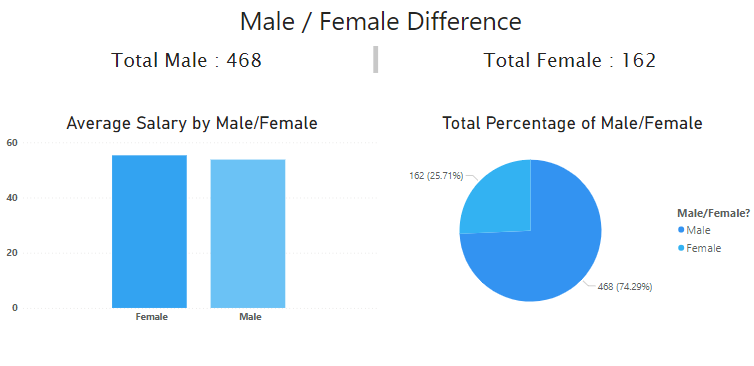

The page's visual inventory and layout, read from the dashboard file:
{"tool":"powerbi","page":{"name":"Male/Female","canvas":[1280,720],"ordinal":2},"visuals":[{"type":"pieChart","title":"Total Percentage of Male/Female","fields":{"Category":["Data Professional Survey.Q9 - Male/Female?"],"Y":["CountNonNull(Data Professional Survey.Unique ID)"]},"box":[640.8,208.6,639.2,362.1],"z":0},{"type":"columnChart","fields":{"Category":["Data Professional Survey.Q9 - Male/Female?"],"Y":["Avg(Data Professional Survey.Average Salary)"]},"box":[10,208.6,630.8,362.1],"z":1000},{"type":"textbox","box":[0,20,1280,73.4],"z":2000},{"type":"textbox","box":[0,93.5,640.8,56.7],"z":3000},{"type":"textbox","box":[640.8,93.5,639.2,56.7],"z":4000}]}

Visuals, with their boxes on the page's 1280x720 design canvas (x1, y1, x2, y2). These are canvas units, not pixel positions in the 754x366 screenshot, which may show the page scaled, cropped or inside an application window:
"Total Percentage of Male/Female" pieChart: <box>641,209,1280,571</box>
columnChart - Data Professional Survey.Q9 - Male/Female? x Avg(Data Professional Survey.Average Salary): <box>10,209,641,571</box>
textbox: <box>0,20,1280,93</box>
textbox: <box>0,94,641,150</box>
textbox: <box>641,94,1280,150</box>
